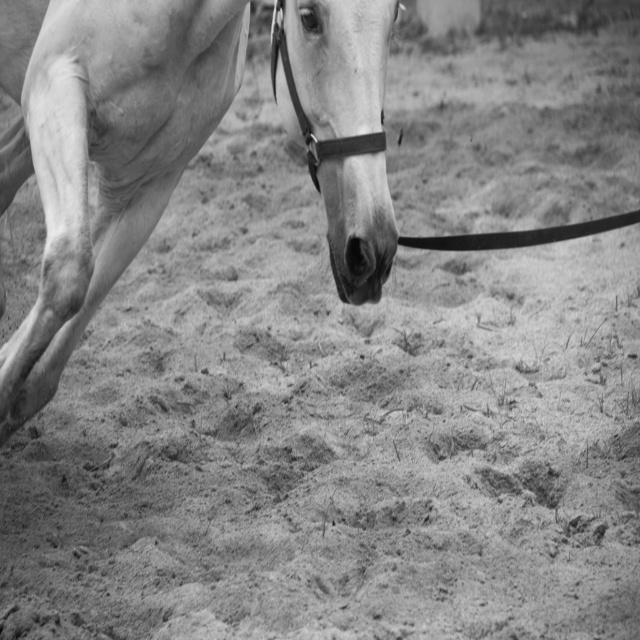Horse: (0, 0, 407, 446)
